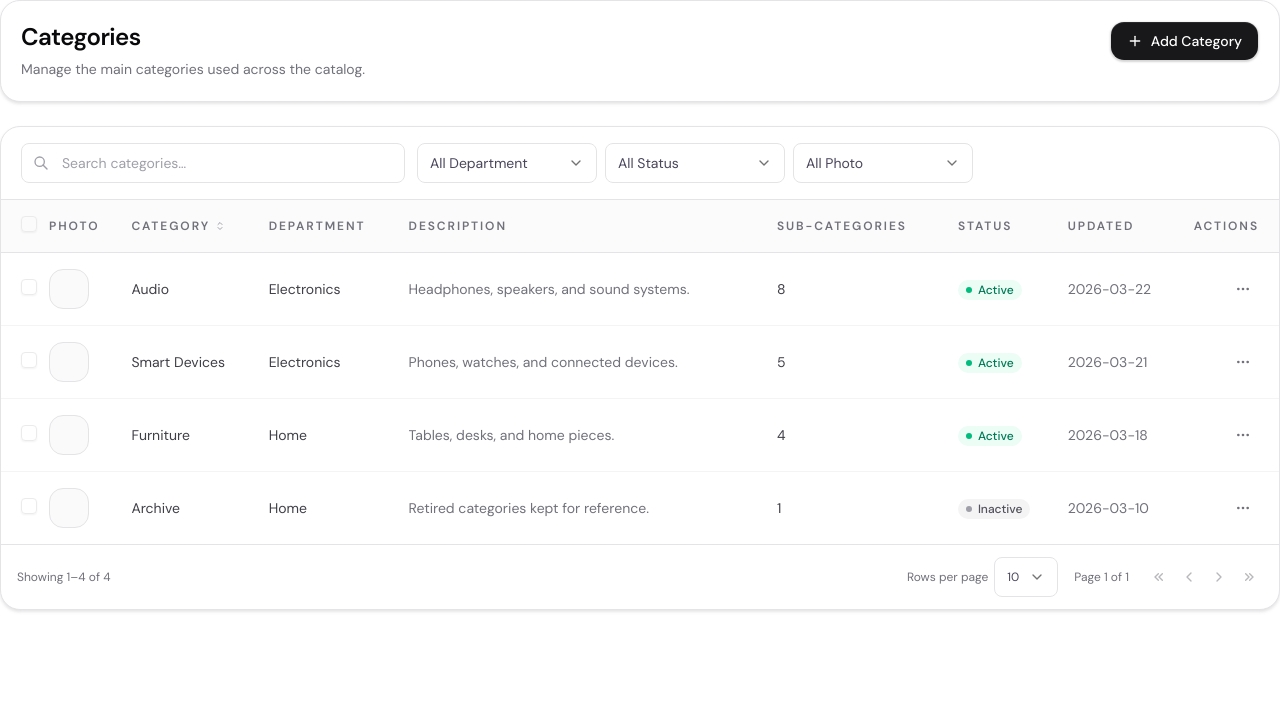
Test case: CategoriesModule › opens delete dialog when clicking delete
Expected: the text "Audio" is shown, [123,252,261,326]
Click the button named "category actions" in the row of "Audio" at coordinates (1243, 289), box [1227,273,1259,305]
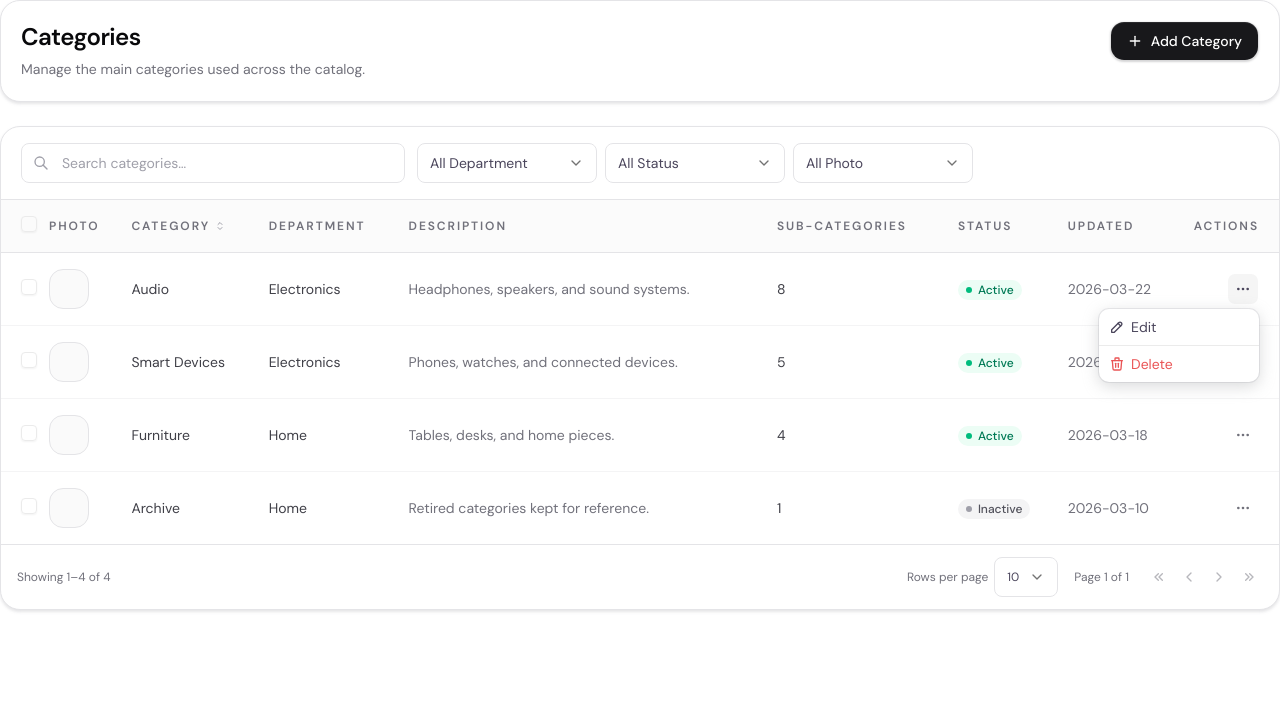
Click the menu item "Delete" at coordinates (1141, 364), box [1109,355,1173,373]
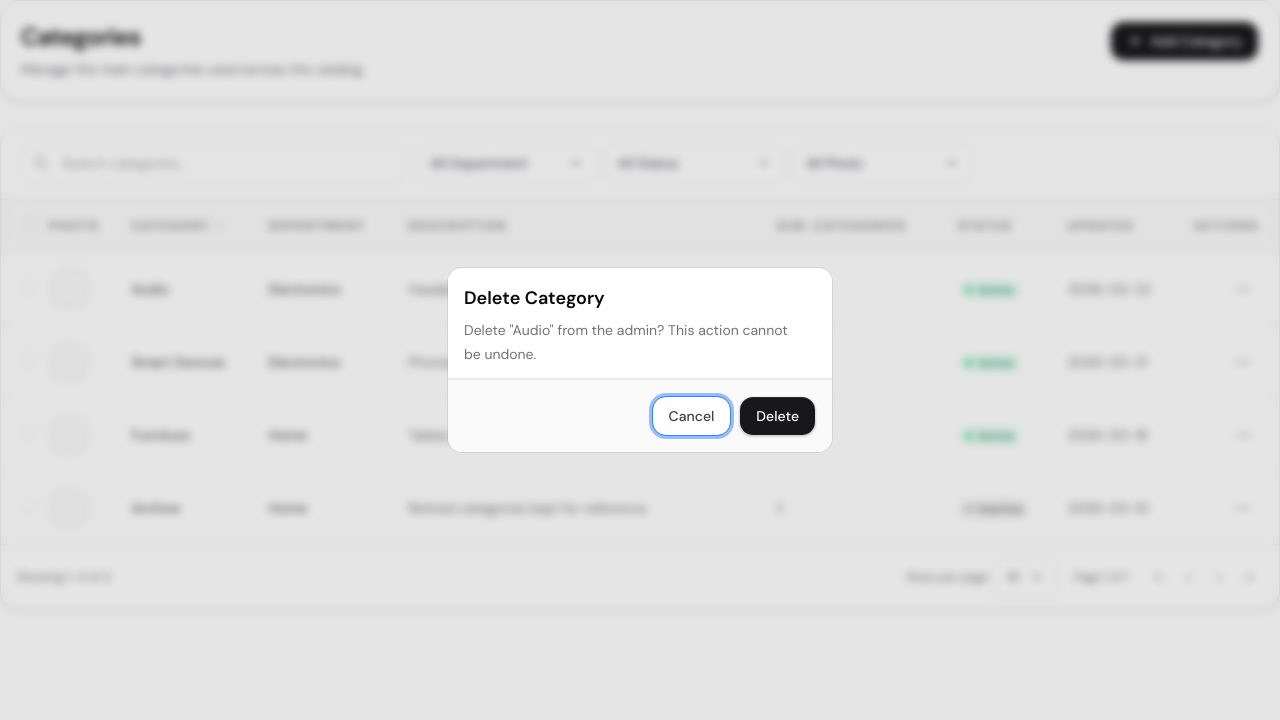
Expected: the heading "Delete Category" is shown, [464,284,605,312]
